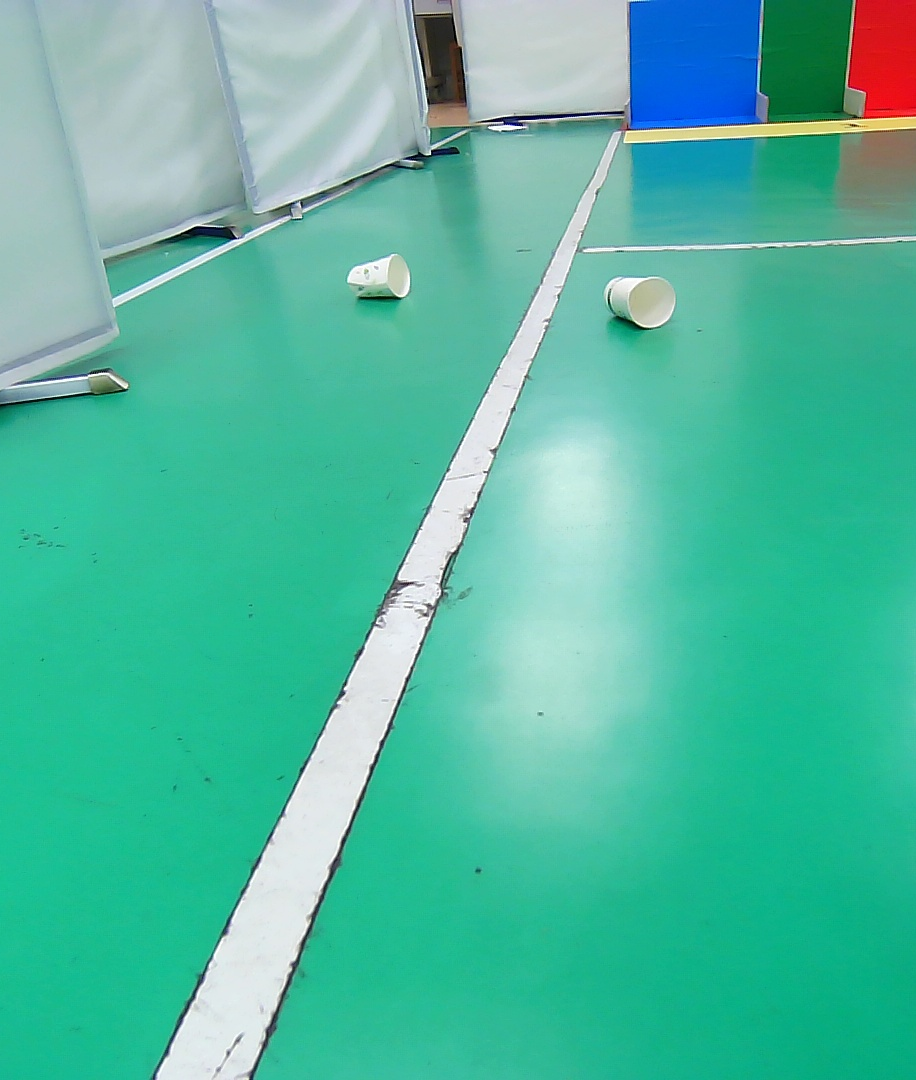papercup: (602, 274, 678, 330), (344, 251, 412, 301)
